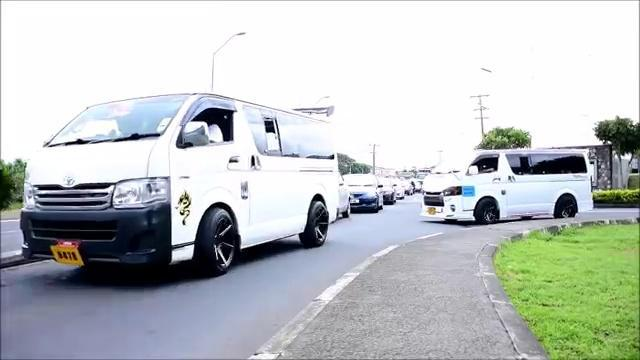Van: (21, 94, 340, 276), (421, 149, 591, 227)
